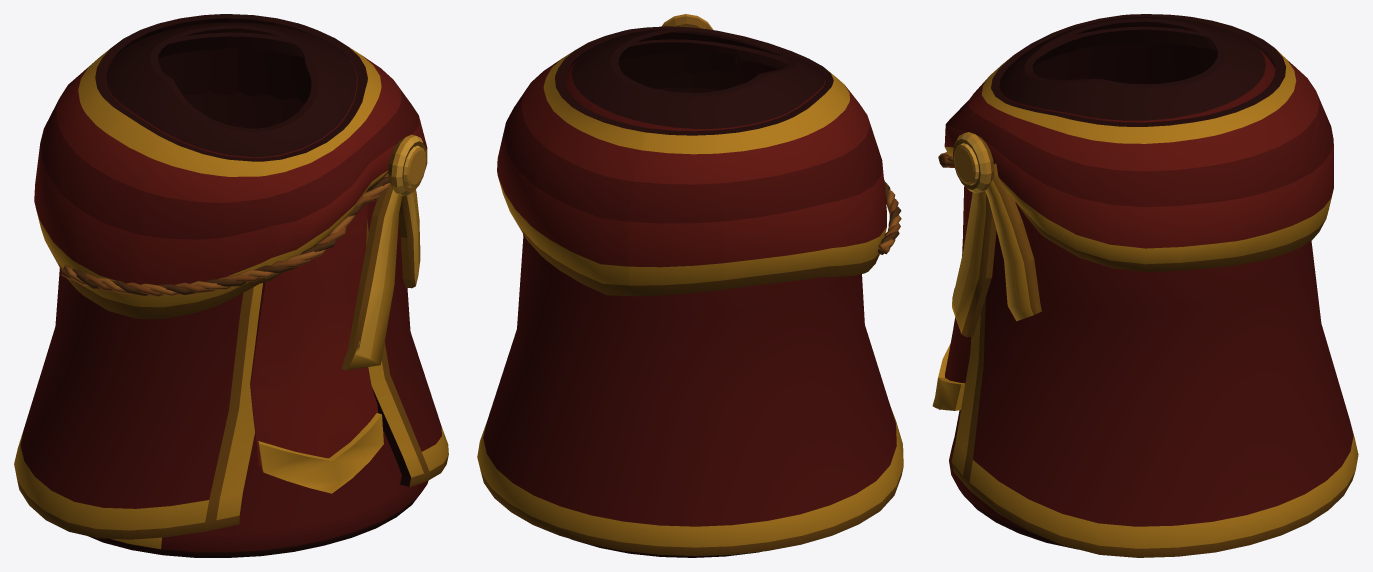
Rendered from TavernChampionOutfit.fbx.
3 views of the same model, side by side, from view 1: azimuth 30°, elevation 25°; view 2: azimuth 150°, elevation 25°; view 3: azimuth 270°, elevation 25° (orthographic).
Parts seen in each view (by area): view 1: Champion mantle and tabard; view 2: Champion mantle and tabard; view 3: Champion mantle and tabard.
Boxes of the visible parts, bbox=[...] form: Champion mantle and tabard: bbox=[14, 14, 448, 557]; Champion mantle and tabard: bbox=[477, 14, 903, 557]; Champion mantle and tabard: bbox=[932, 14, 1358, 557].
Size of the model in its own units: 0.3984 by 0.4228 by 0.3855.
2 materials, 2 textured.
